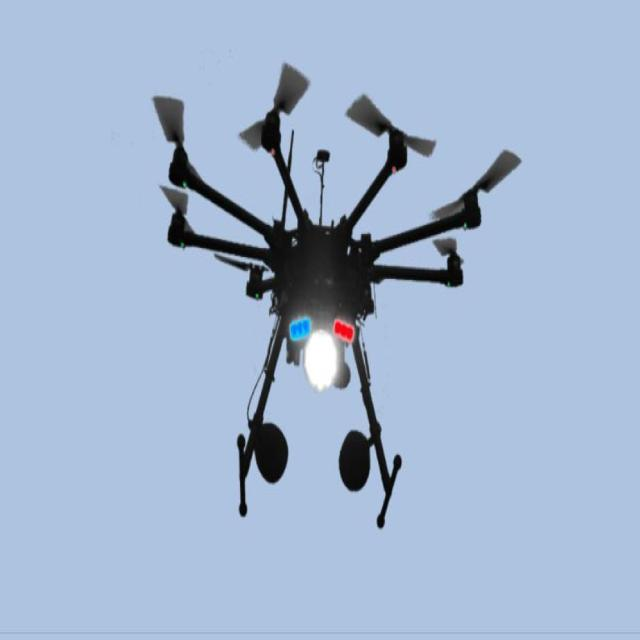drone: (150, 59, 522, 532)
